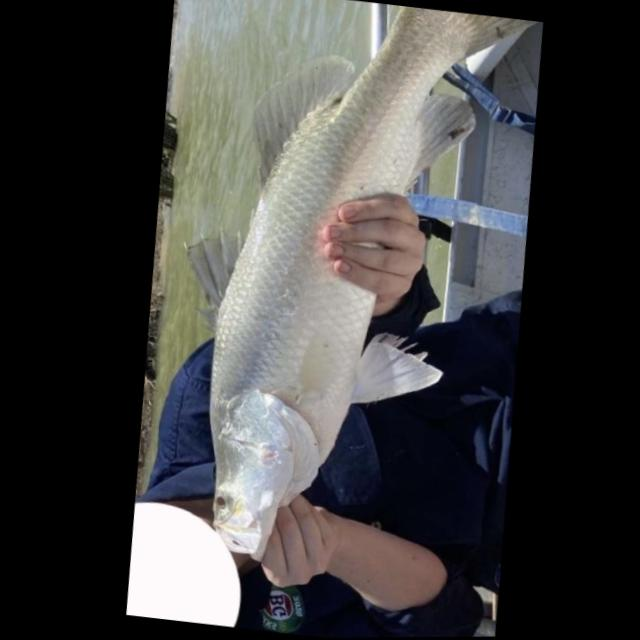Seabass: (131, 0, 568, 594)
